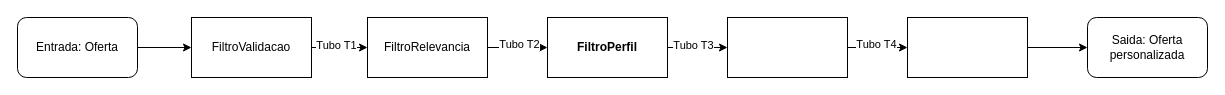
Some shapes in this 1225 by 95 pixel diagram are drawn without their labels. The shapes that lost their labels are listed below. From the top down, each one's centre as x and y in pixels, then its label:
At (787,47): "FiltroAcessibilidade".
At (967,47): "FiltroCanal".
